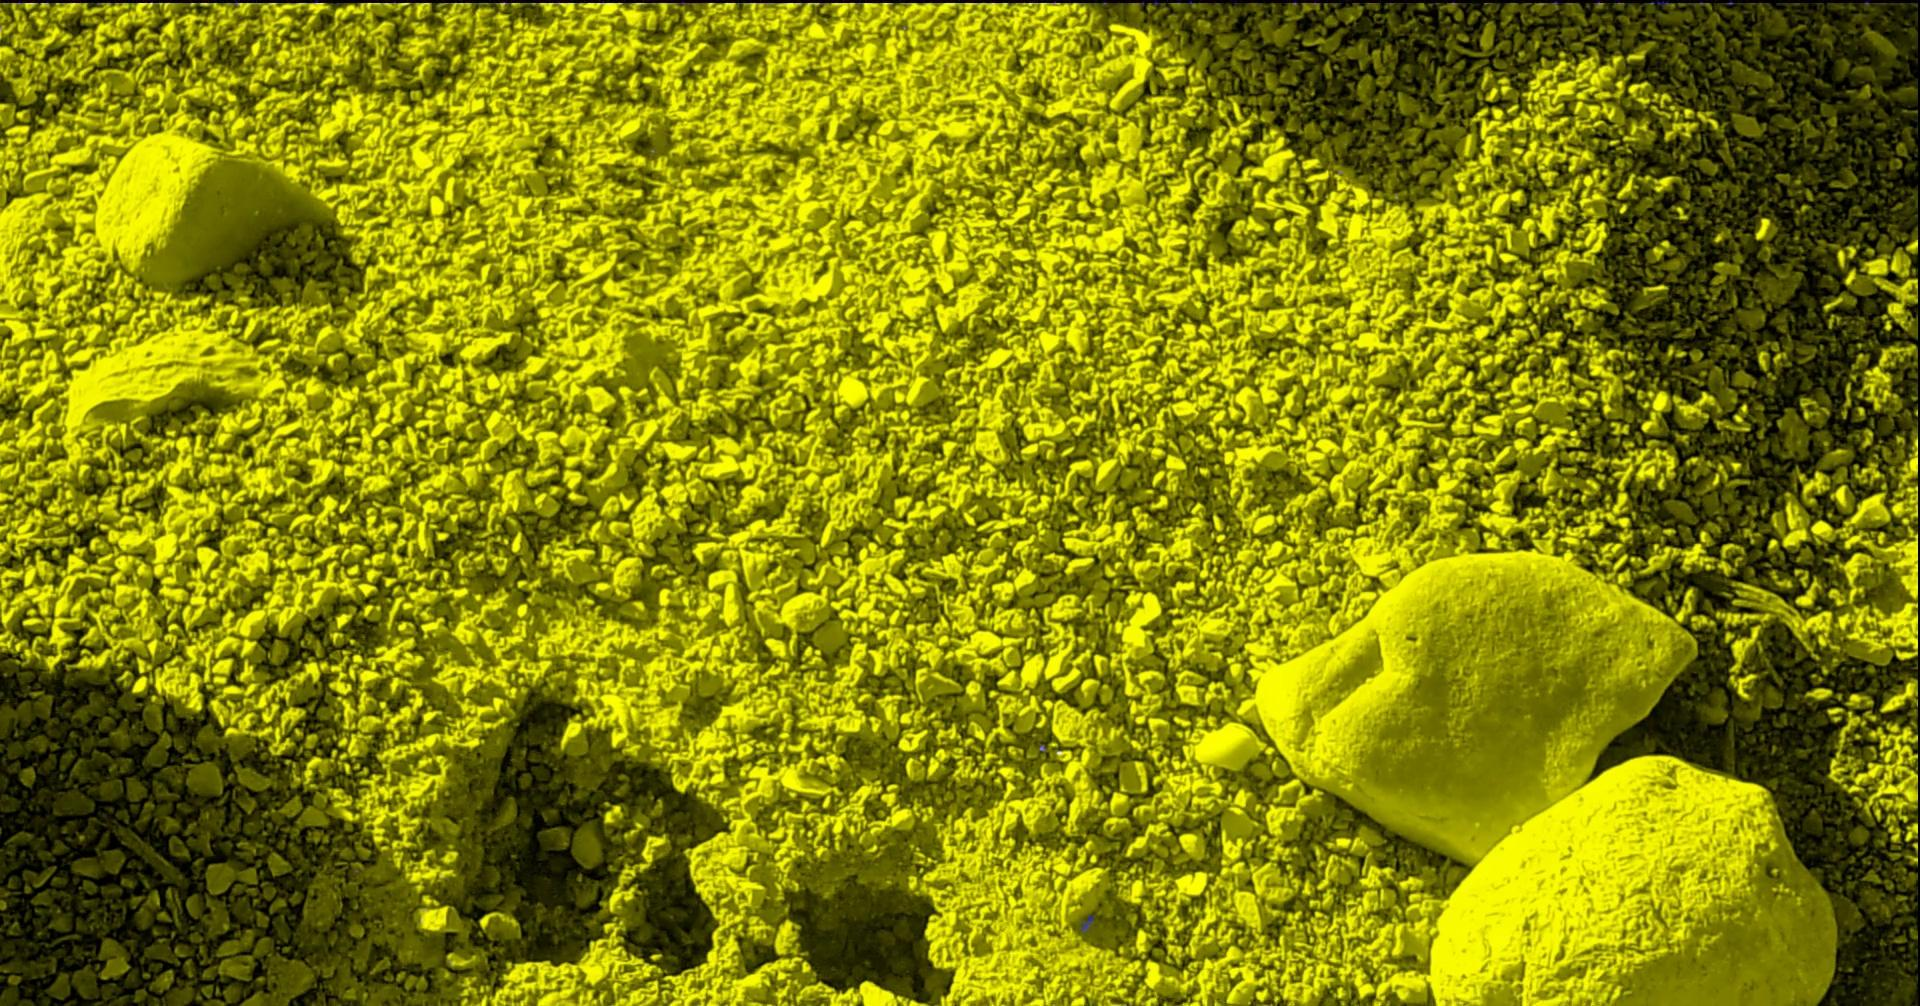ant: (1081, 915, 1095, 931)
